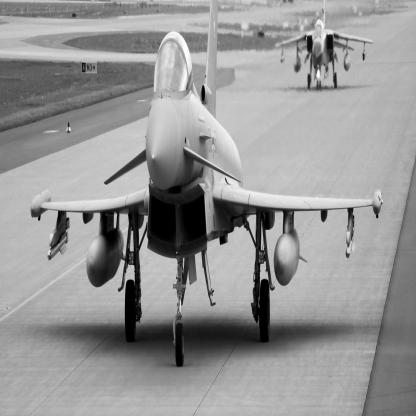EF2000: (31, 2, 384, 368)
Tornado: (276, 2, 374, 91)
